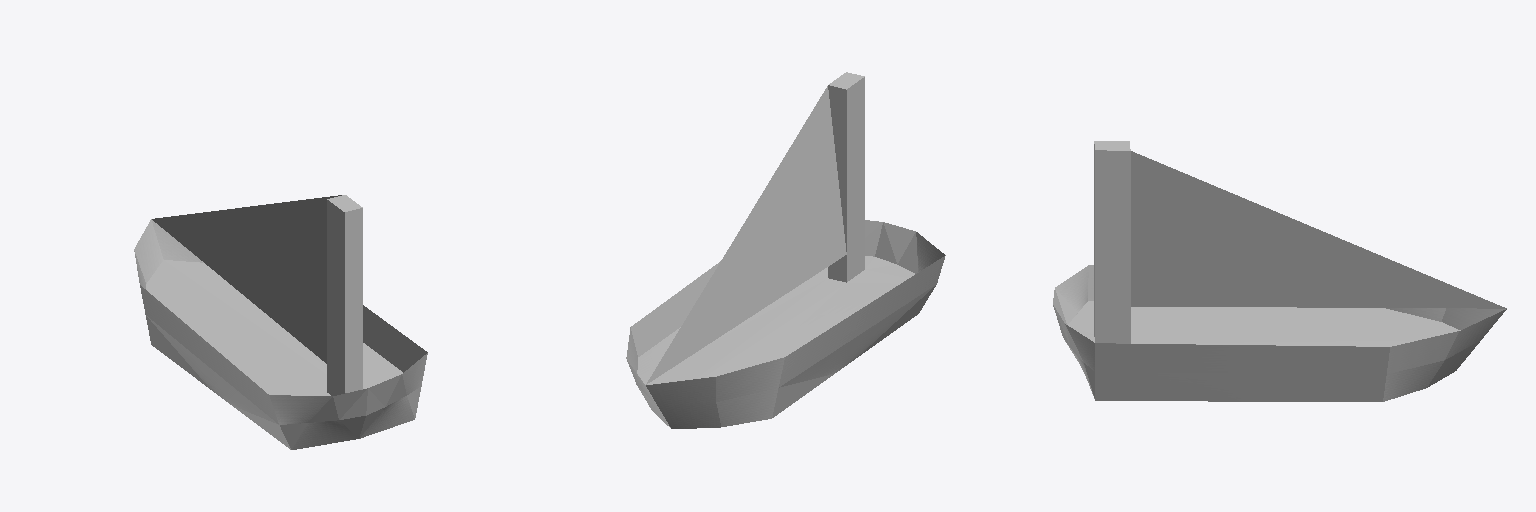
The model's file is boatLotsofPoints.obj.
The picture shows the model from 3 angles: view 1: azimuth 30°, elevation 25°; view 2: azimuth 150°, elevation 25°; view 3: azimuth 270°, elevation 25°; orthographic projection.
Visible parts, largest first — view 1: Cube.001_Cube.002; view 2: Cube.001_Cube.002; view 3: Cube.001_Cube.002.
Part boxes in pixels (left/top/right/bottom): Cube.001_Cube.002: left=134, top=195, right=427, bottom=449; Cube.001_Cube.002: left=626, top=72, right=945, bottom=428; Cube.001_Cube.002: left=1053, top=141, right=1506, bottom=401.
Bounding box in the file's own units: 5.35 × 7 × 12.8.